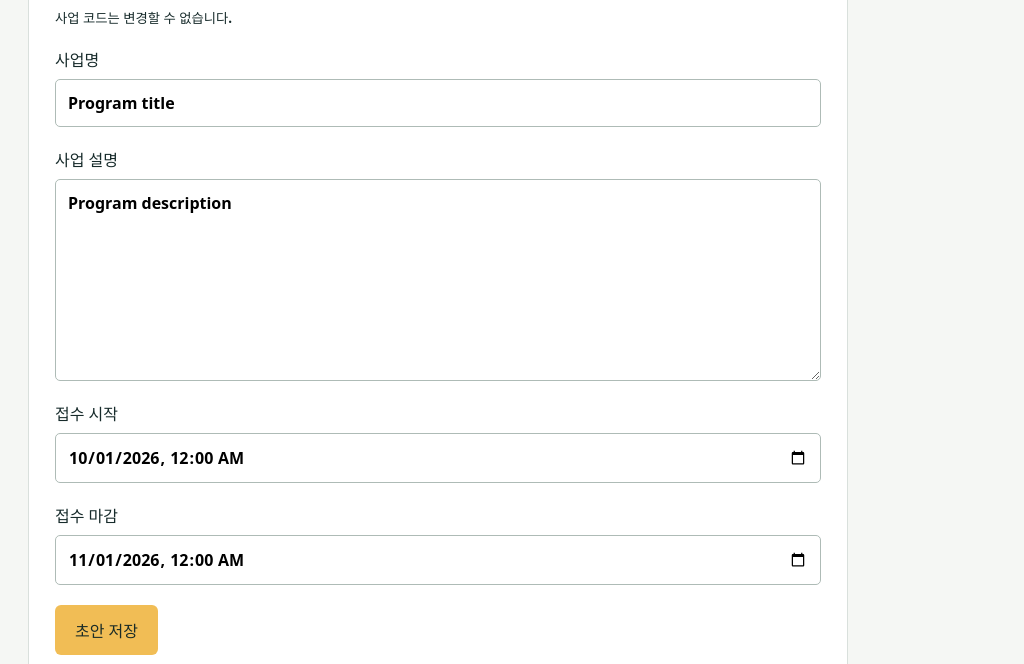
Test: admin product surface › edits with version, excludes code, and exposes conflict recovery without retry
The width and height of the screenshot is (1024, 664).
(page scrolled)
Expected: the field showing "Program title" is shown, [55,80,821,128]
Click the button "초안 저장" at (106, 630), box [55,606,158,656]
(page scrolled)
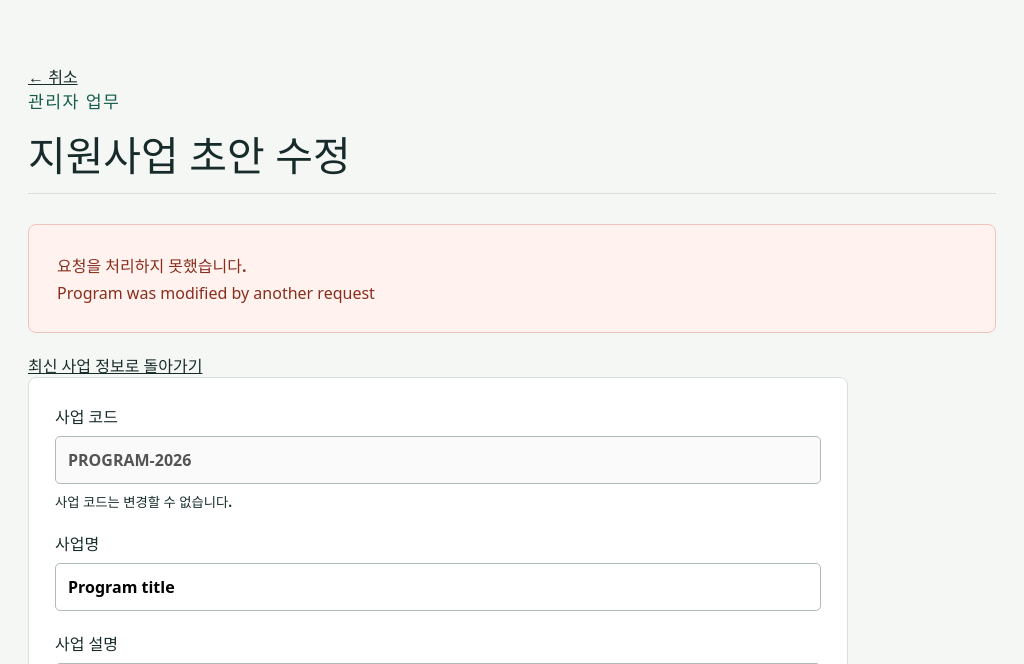
Expected: the message shows "modified", [57,282,375,304]
Expected: the link "최신 사업 정보로 돌아가기" is shown, [28,356,202,378]
